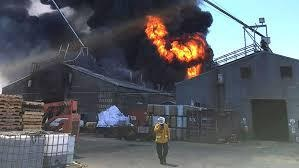fire: (145, 18, 207, 80)
